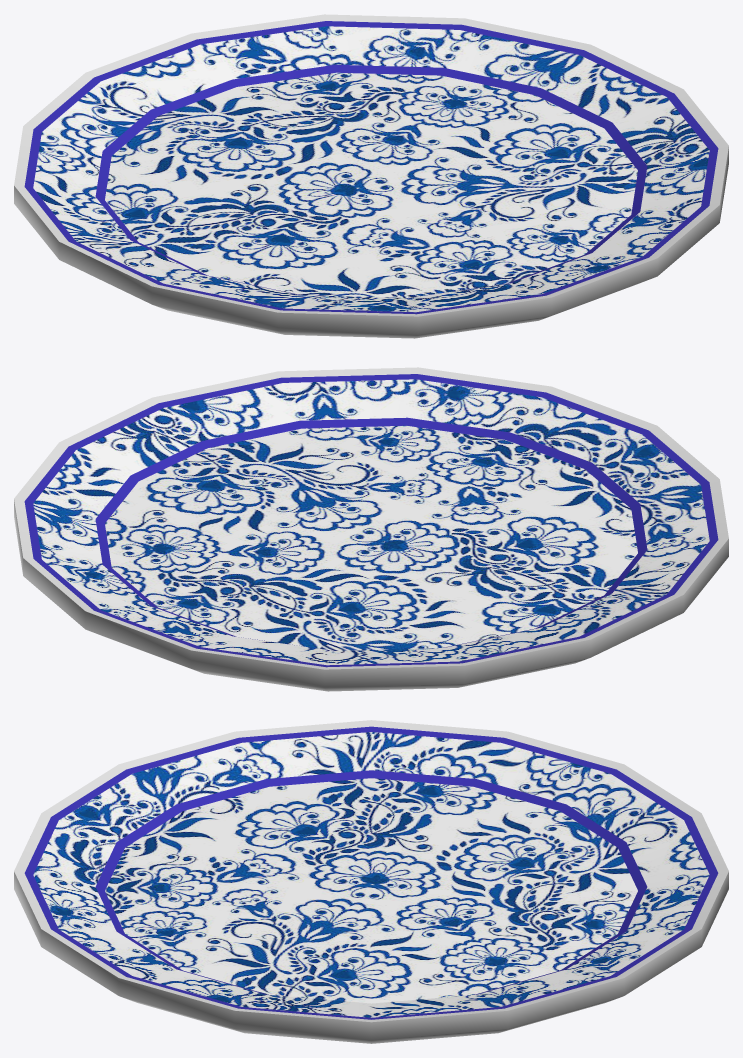
The model's file is china plate.fbx.
3 renders of one model, top to bottom at view 1: azimuth 30°, elevation 25°; view 2: azimuth 150°, elevation 25°; view 3: azimuth 270°, elevation 25°, orthographic.
Visible parts, largest first — view 1: Circle; view 2: Circle; view 3: Circle.
Boxes of the visible parts, bbox=[...] form: Circle: bbox=[14, 14, 728, 338]; Circle: bbox=[14, 367, 728, 691]; Circle: bbox=[14, 720, 728, 1043].
Size of the model in its own units: 216 by 21.6 by 216.
Materials: 3 (1 with a texture image).
